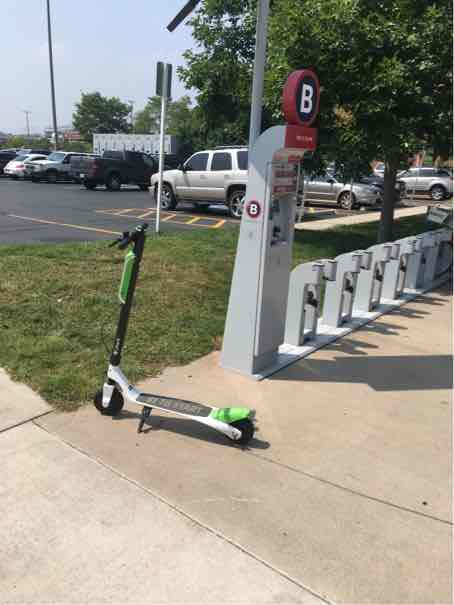scooter: (85, 212, 264, 452)
